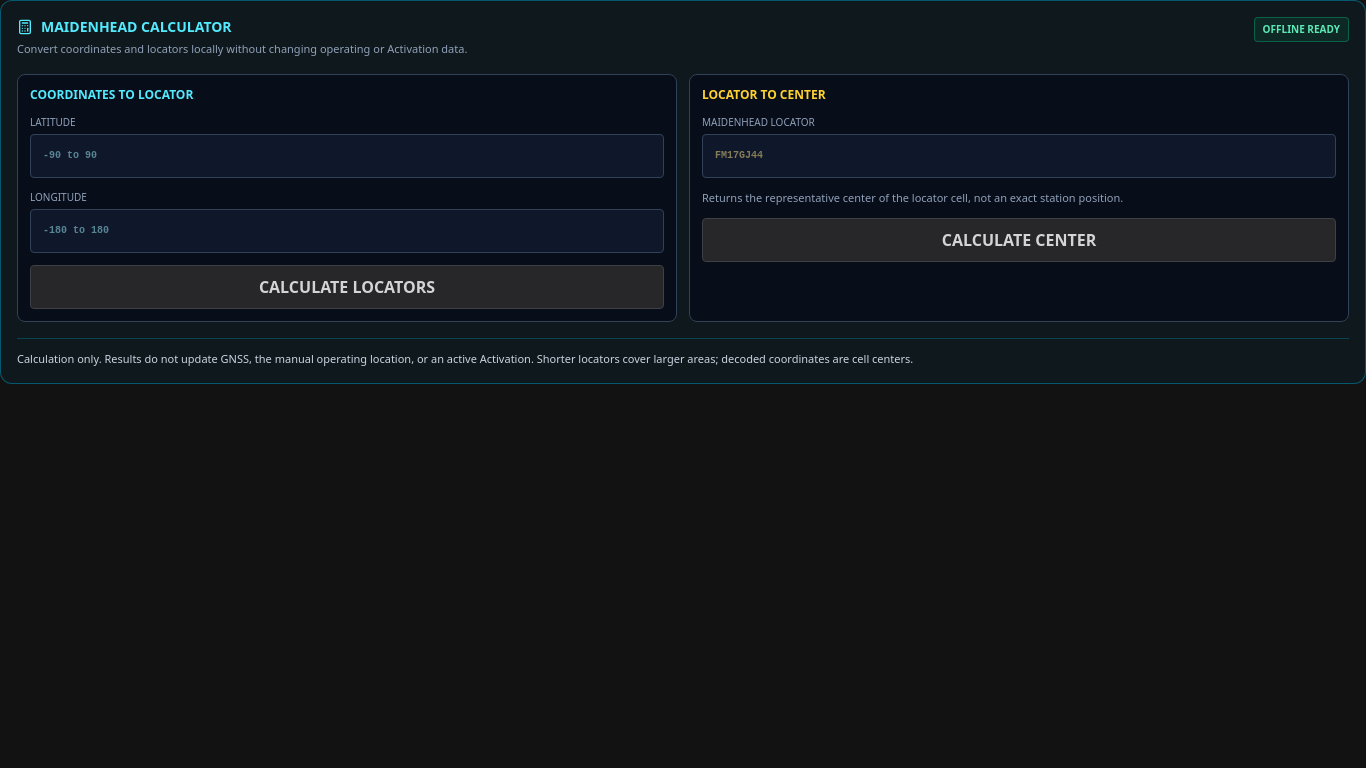
Test: Maidenhead calculator › truthfully rejects invalid input and handles unavailable operating location
The width and height of the screenshot is (1366, 768).
Type "not-a-grid" into the field labelled "Maidenhead locator" at [1019, 156], box [702, 134, 1336, 178]
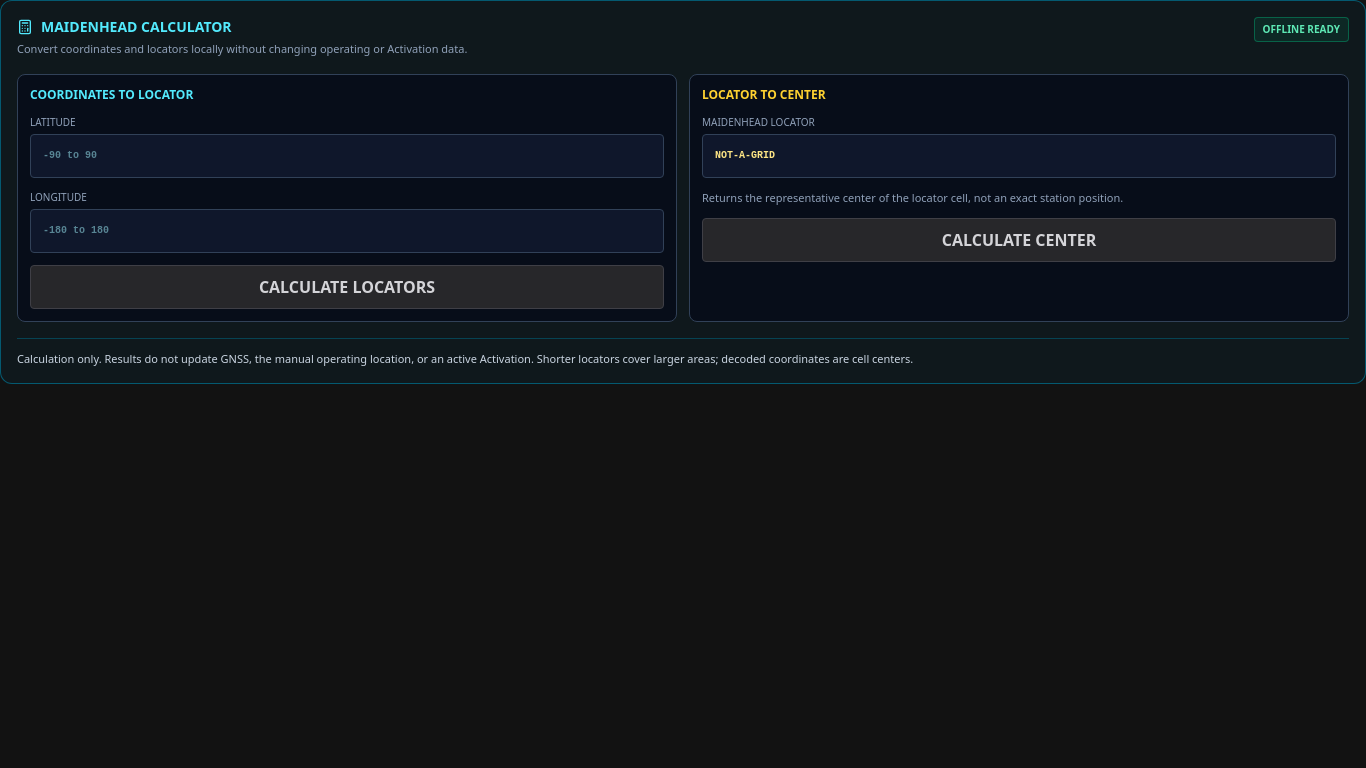
Click the button "CALCULATE CENTER" at [1019, 240], box [702, 218, 1336, 262]
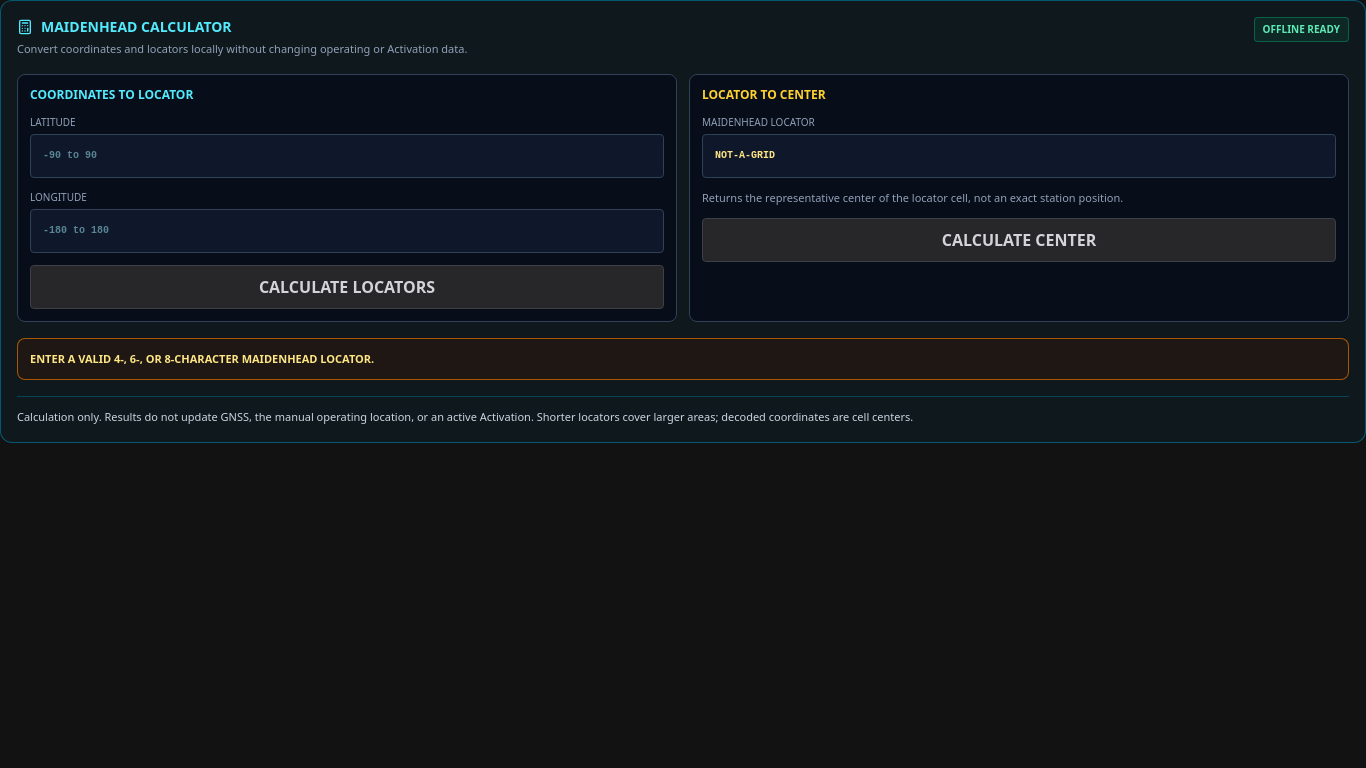
Expected: the message shows "ENTER A VALID 4-, 6-, OR 8-CHARACTER", [30, 350, 374, 366]
Type "0" into the field named "Maidenhead latitude" at [347, 156], box [30, 134, 664, 178]
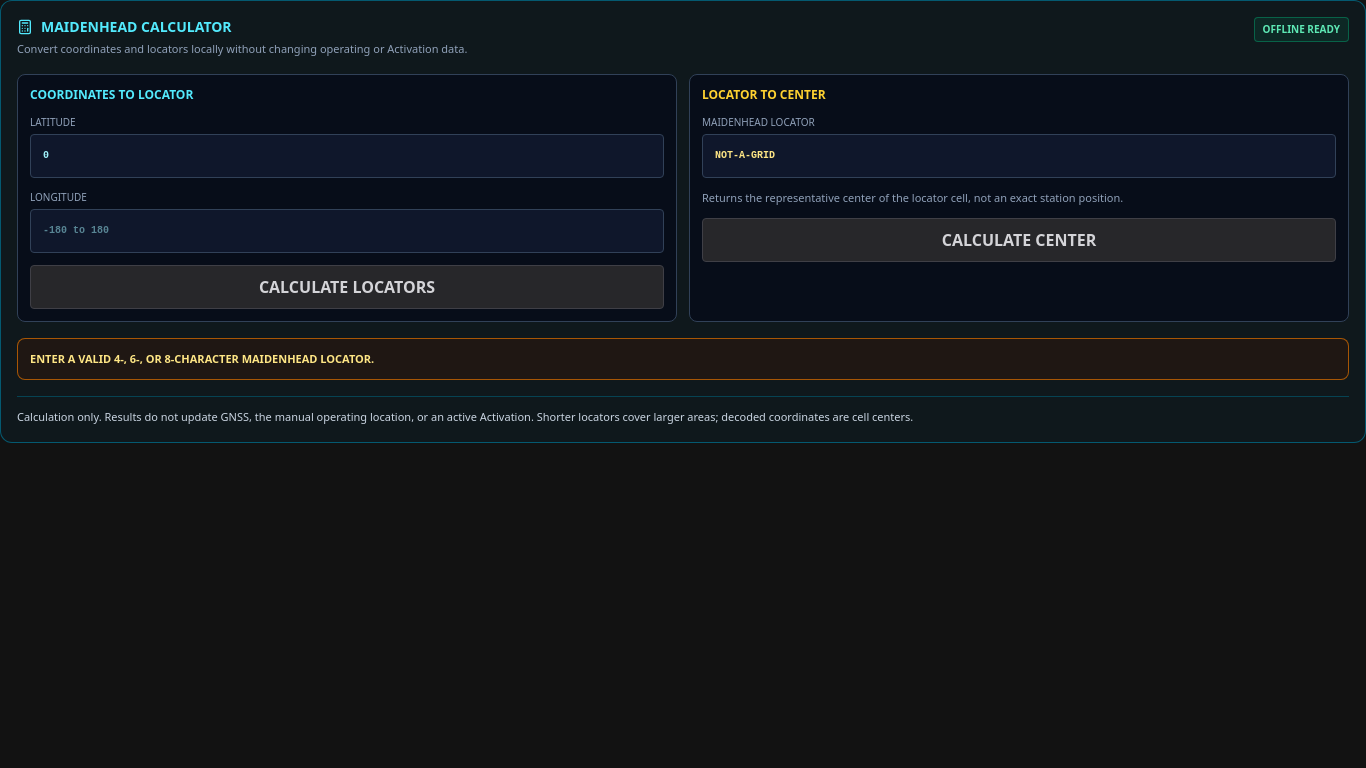
Type "0" into the field named "Maidenhead longitude" at [347, 230], box [30, 208, 664, 252]
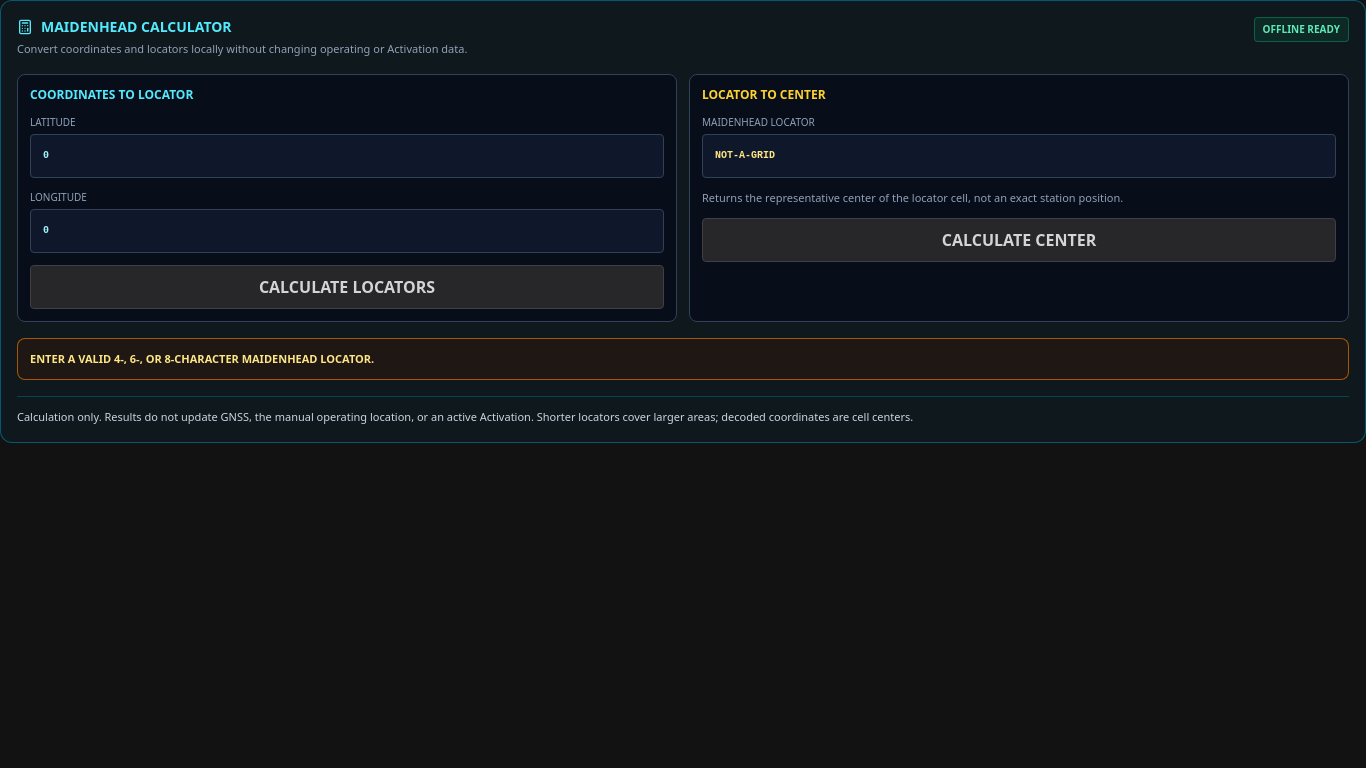
Click the button "CALCULATE LOCATORS" at [347, 286], box [30, 264, 664, 308]
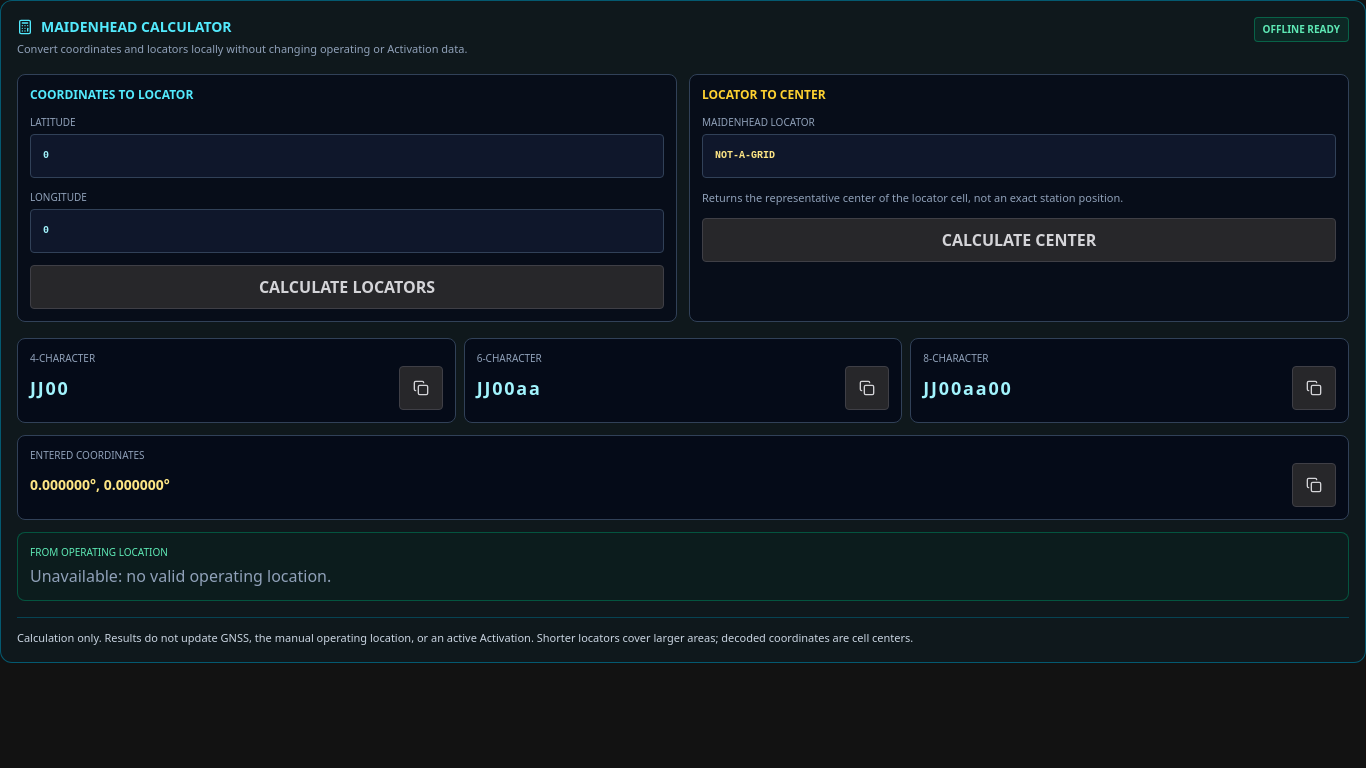
Expected: the text "Unavailable: no valid operating location." is shown, [30, 564, 331, 586]
